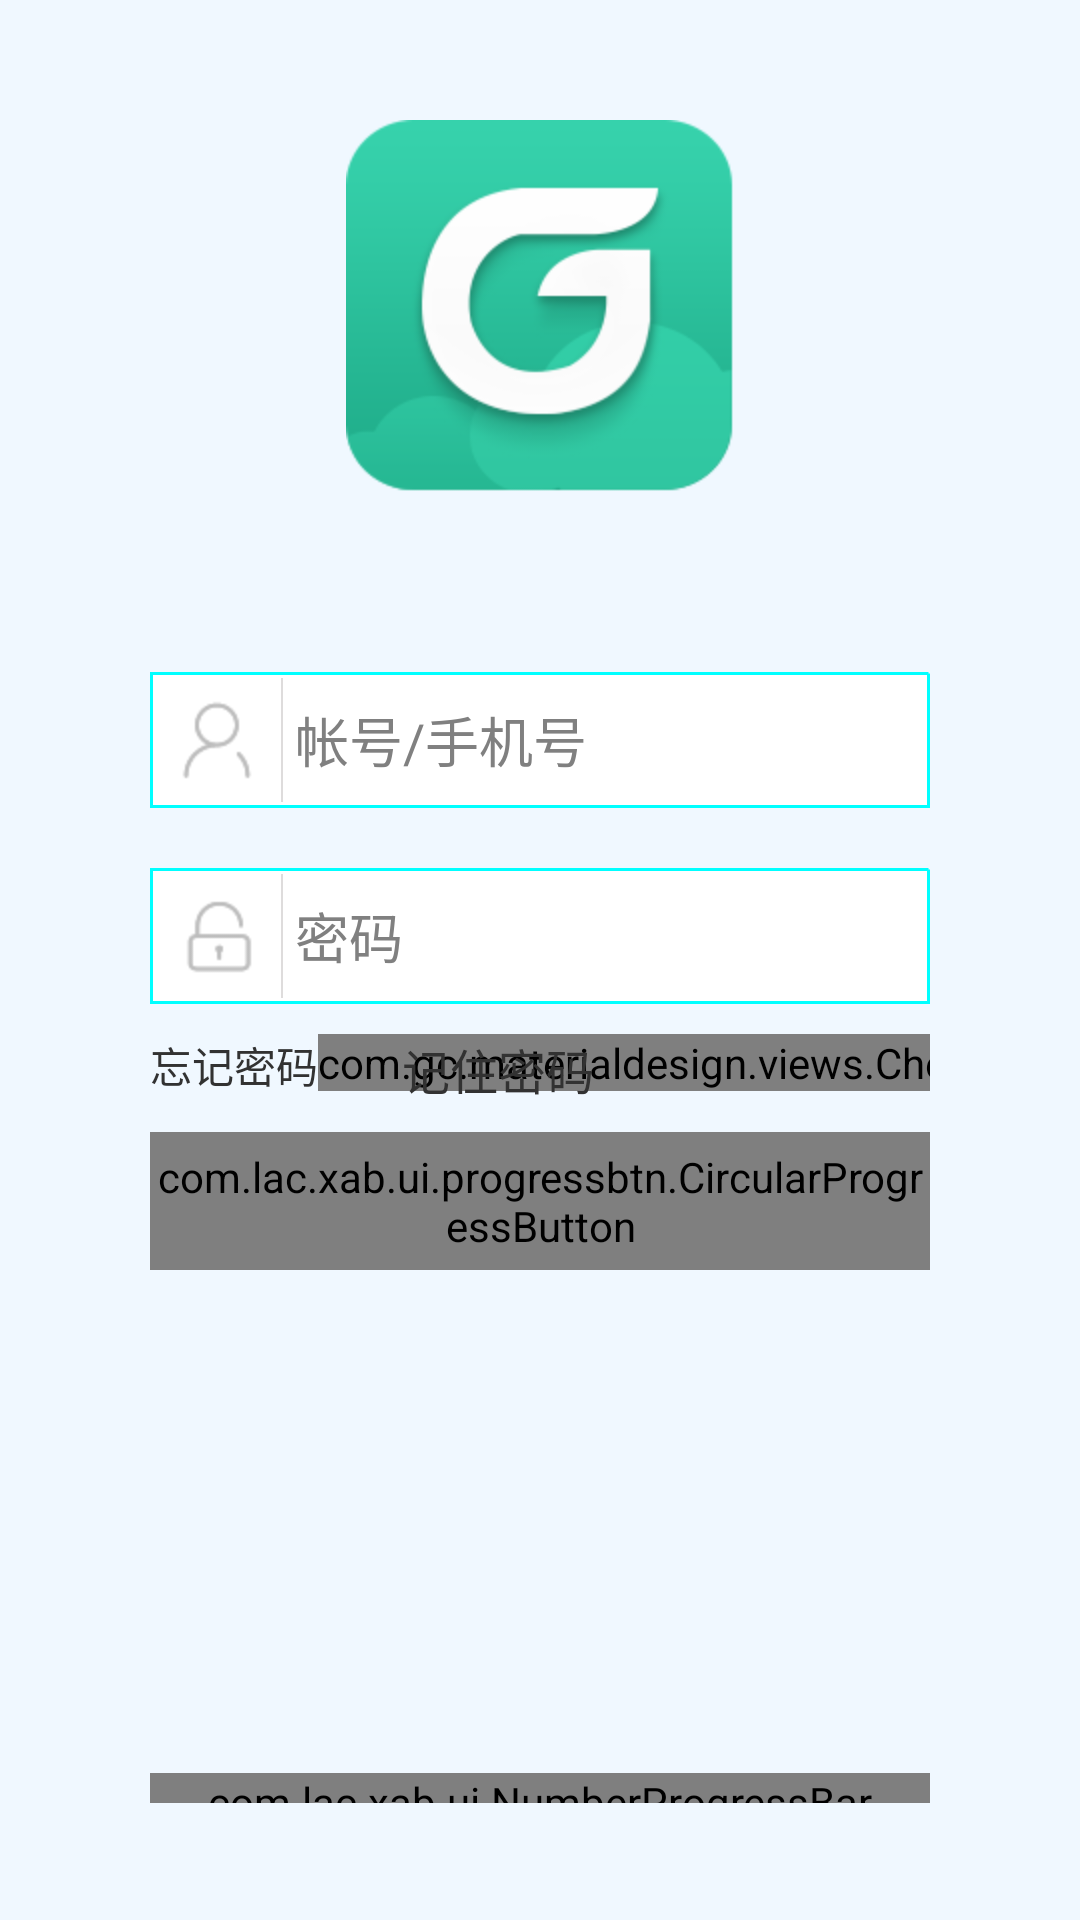

Icons on this 1080w x 1920h Android screen, each with its box as (x1, y1, x2, y2):
login name: (183, 703, 250, 778)
login pw: (188, 902, 251, 972)
